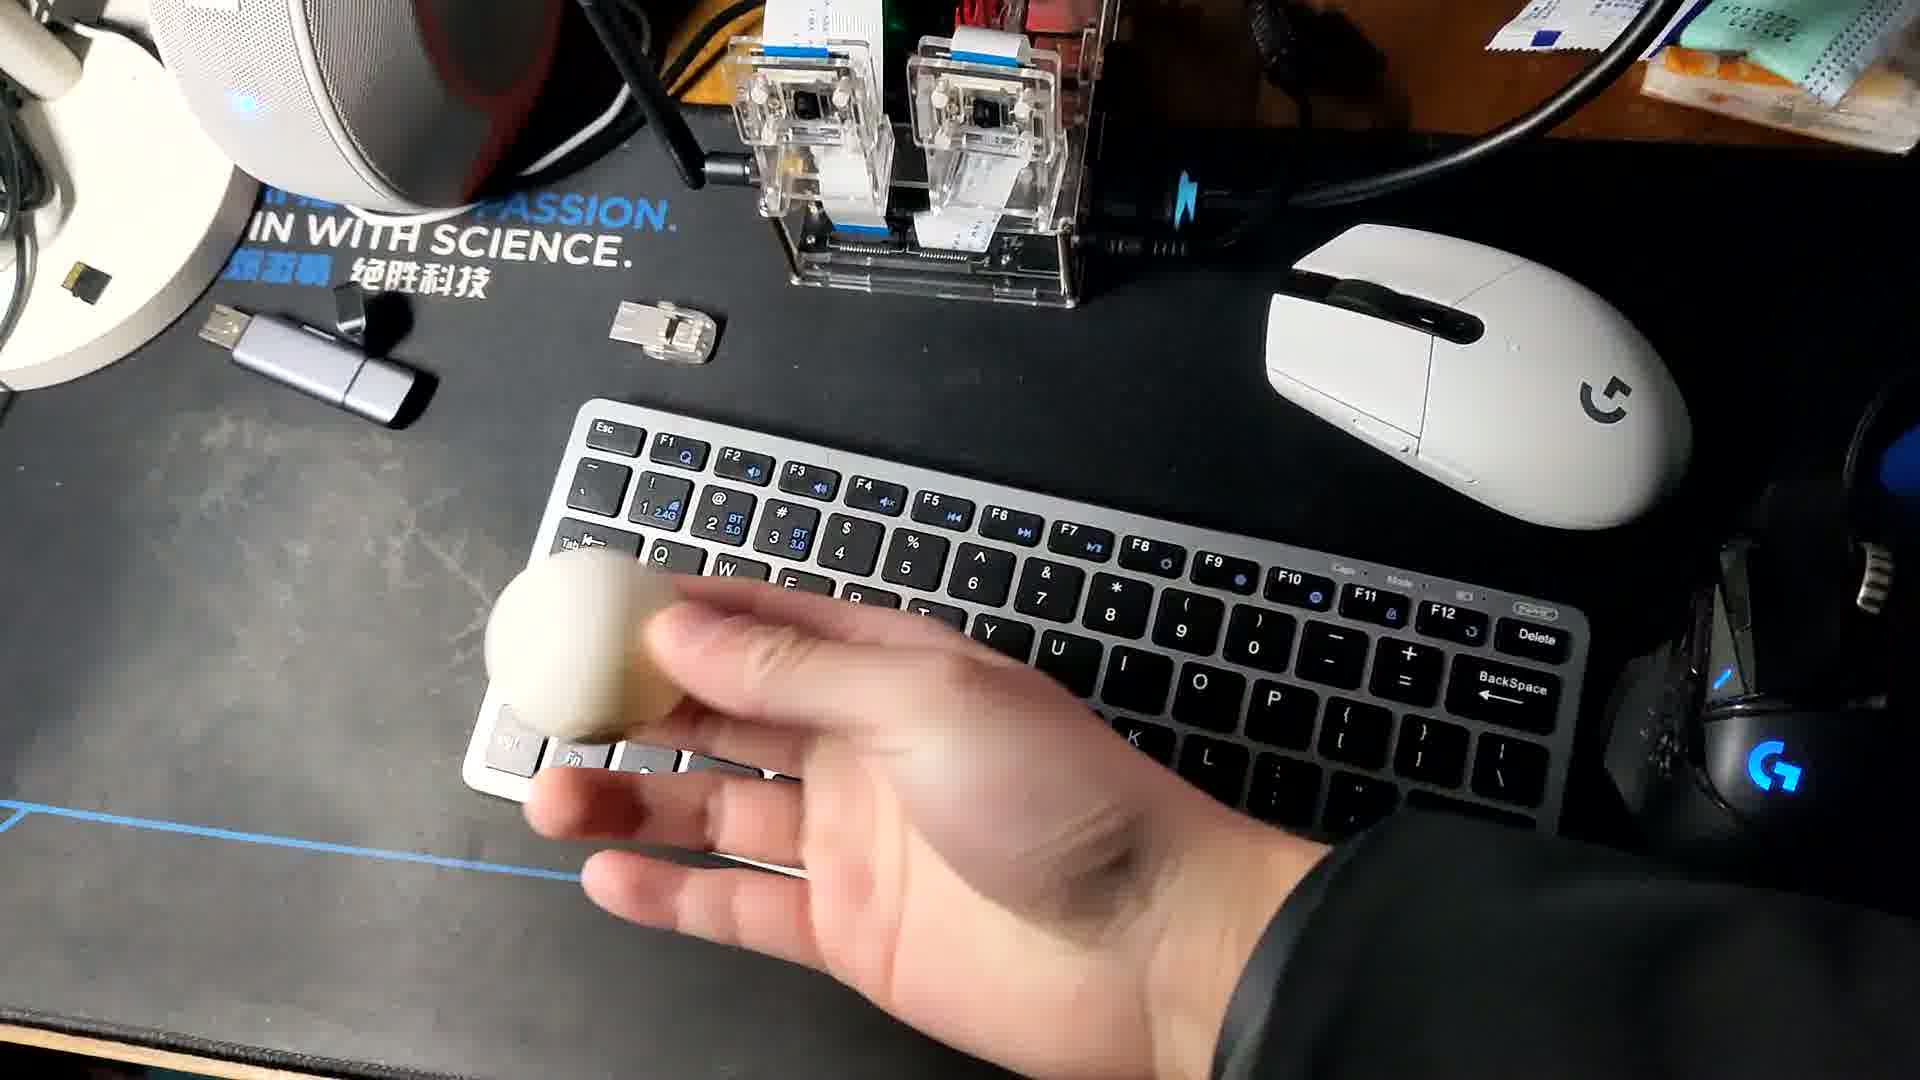Ball: (485, 547, 698, 753)
